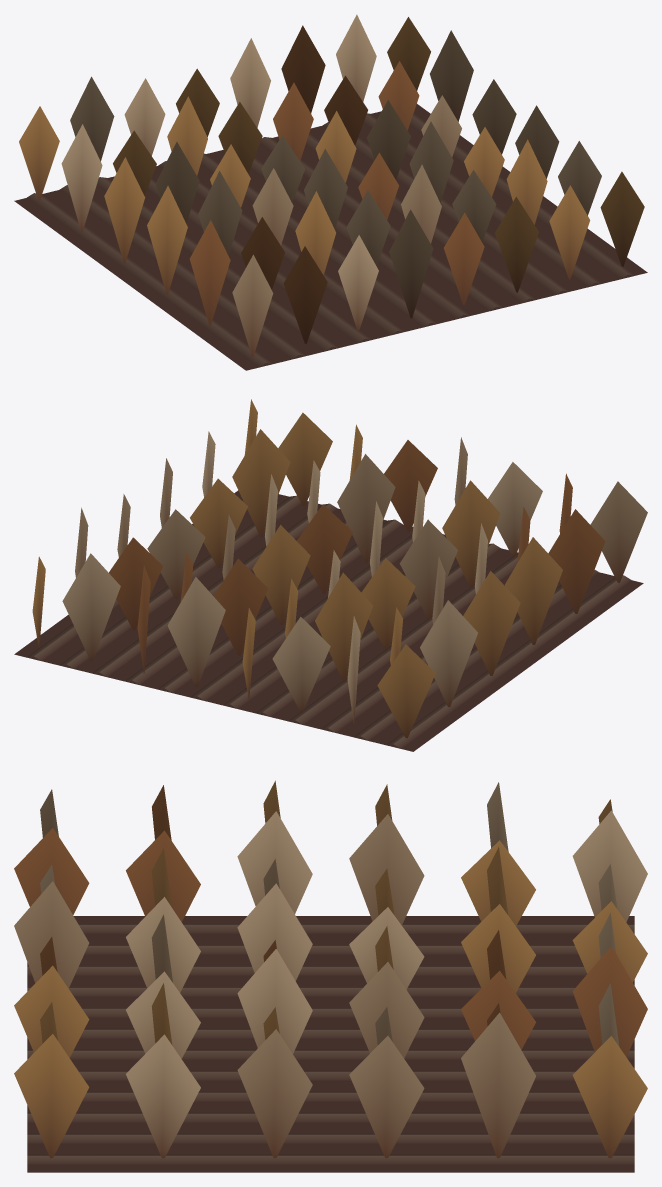
The model's file is veg.corn-block.lod2.glb.
3 renders of one model, top to bottom at view 1: azimuth 30°, elevation 25°; view 2: azimuth 150°, elevation 25°; view 3: azimuth 270°, elevation 25°, orthographic. The views are drawn at different scales.
Parts seen in each view (by area): view 1: body; view 2: body; view 3: body.
Part boxes in pixels (box(x1,y1,x2,y2)): body: box(14, 14, 647, 370); body: box(14, 399, 647, 751); body: box(14, 780, 647, 1172).
Bounding box in the file's own units: 10.22 × 2.72 × 10.44.
